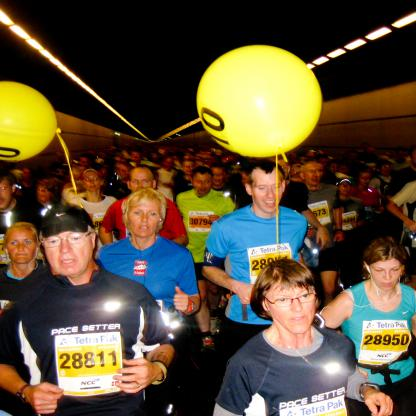Ball: (197, 44, 320, 154), (0, 81, 59, 161)
